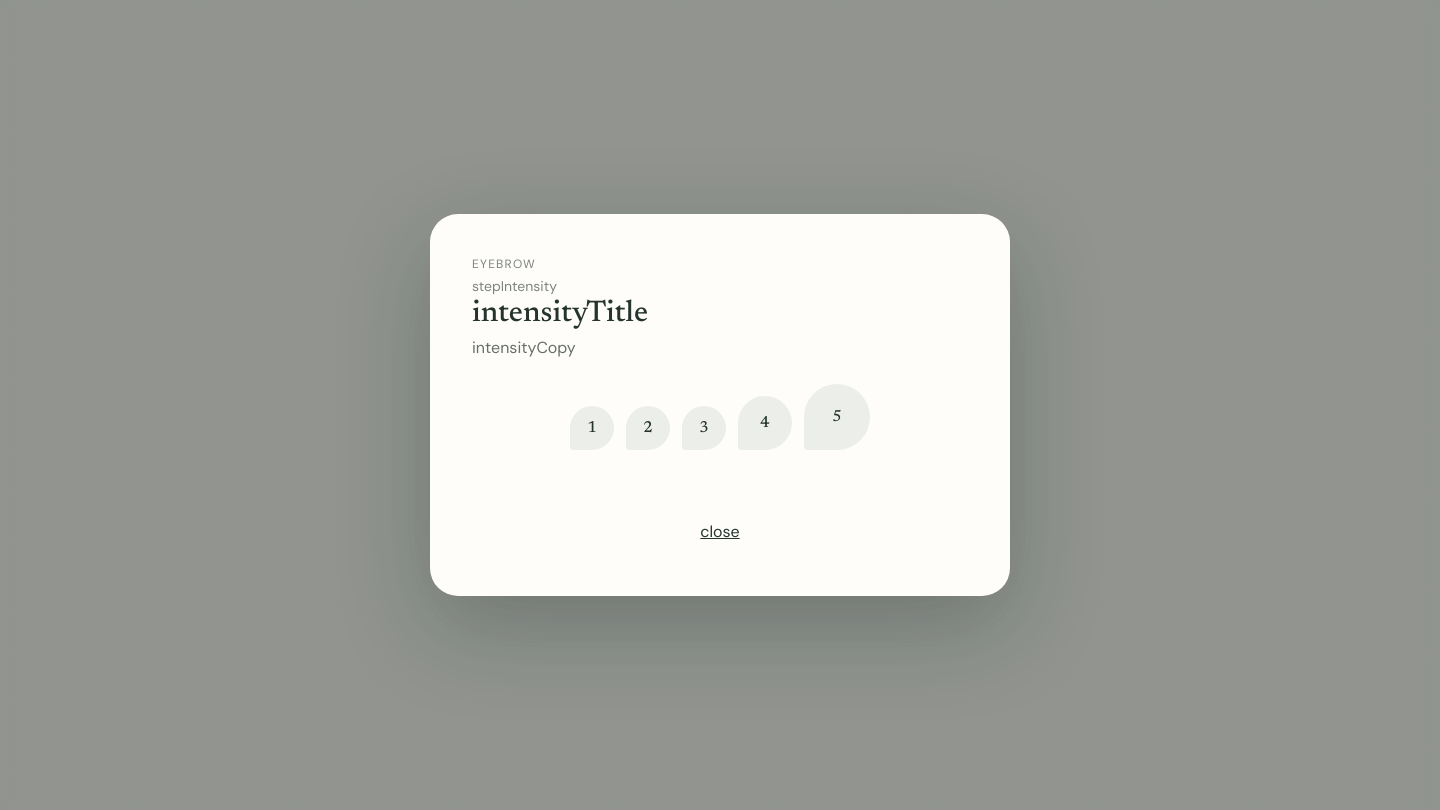
Test: ToughDayFlow › posts intensity and moves to the breathing step
This screenshot has width=1440, height=810.
Expected: the heading "intensityTitle" is shown, [472,299,648,329]
Click the radio button named "3:".
click(704, 428)  # box [682,406,726,450]
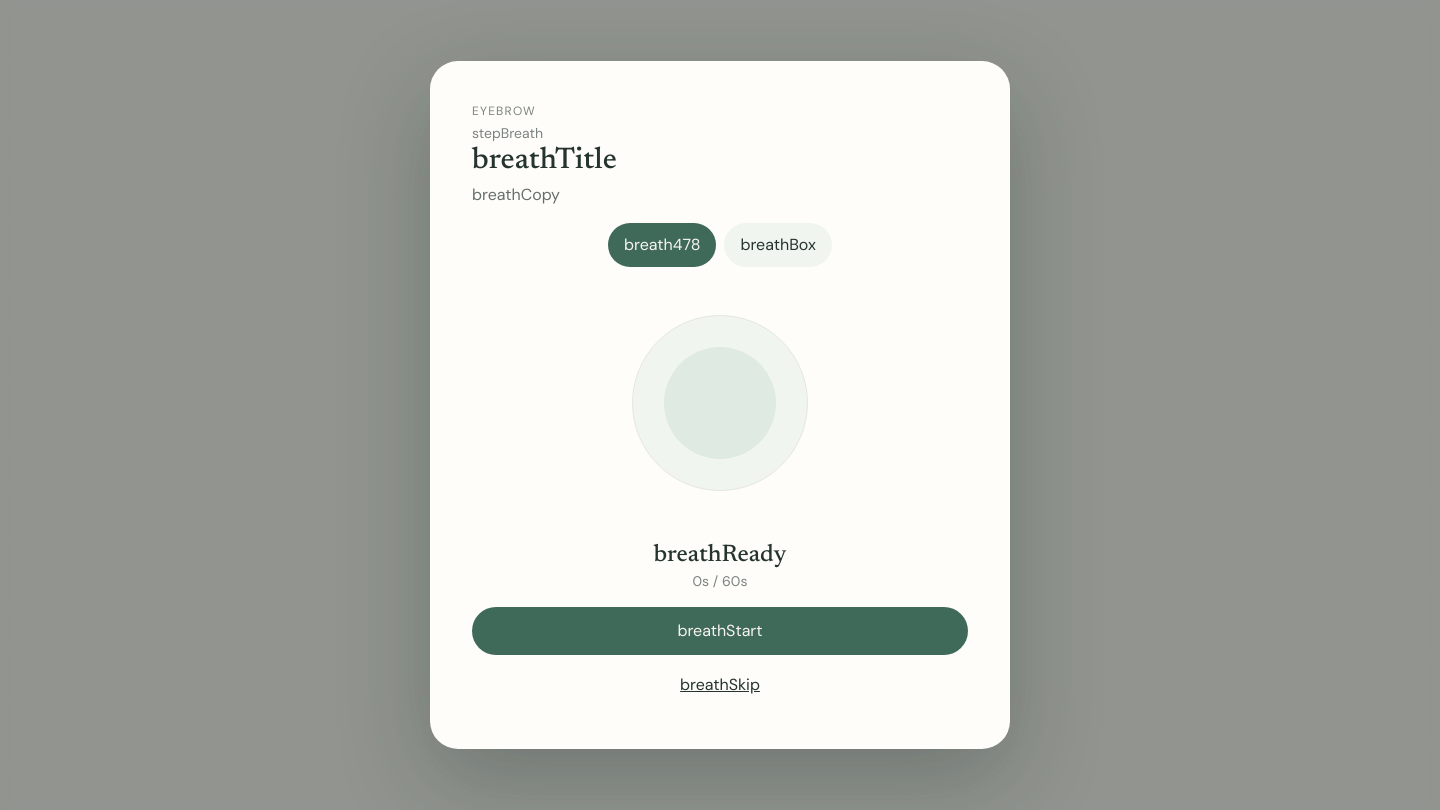
Expected: the heading "breathTitle" is shown, [472,146,617,176]
